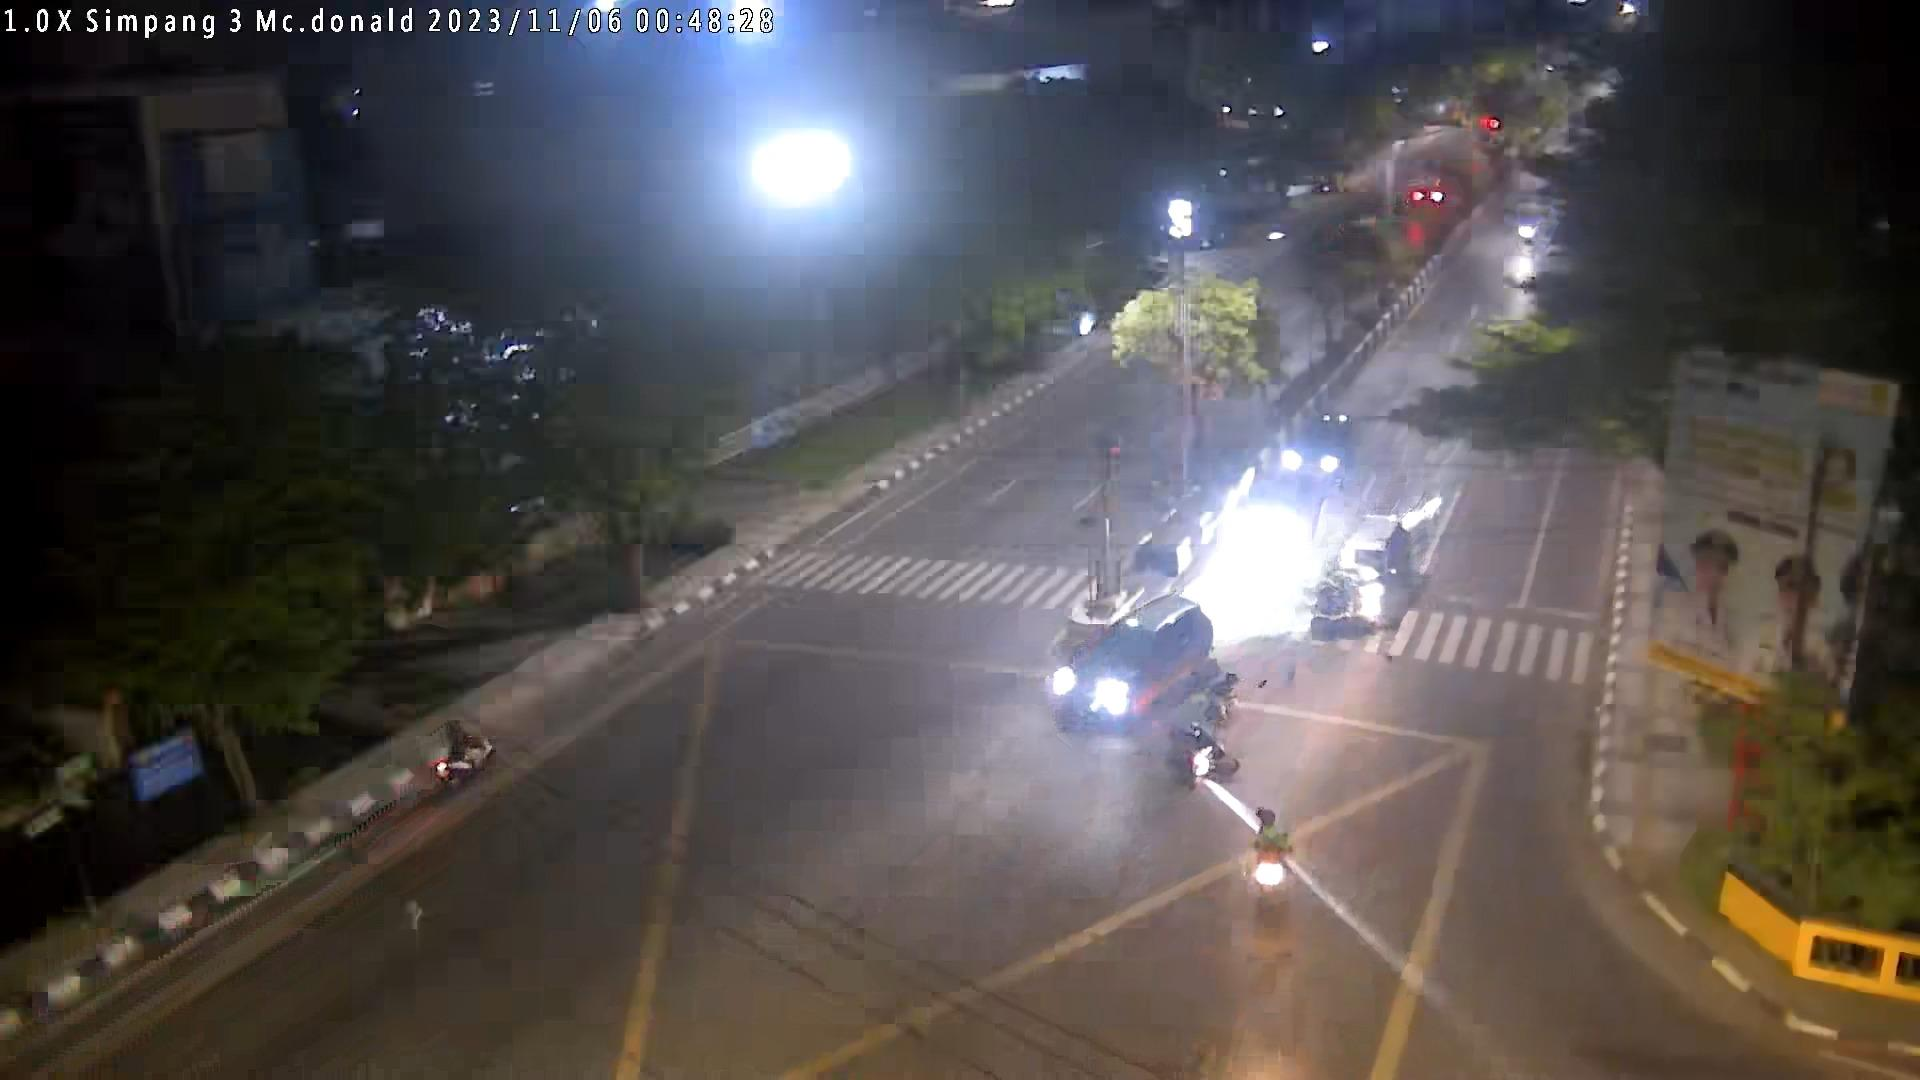accident: (1204, 673, 1244, 728)
